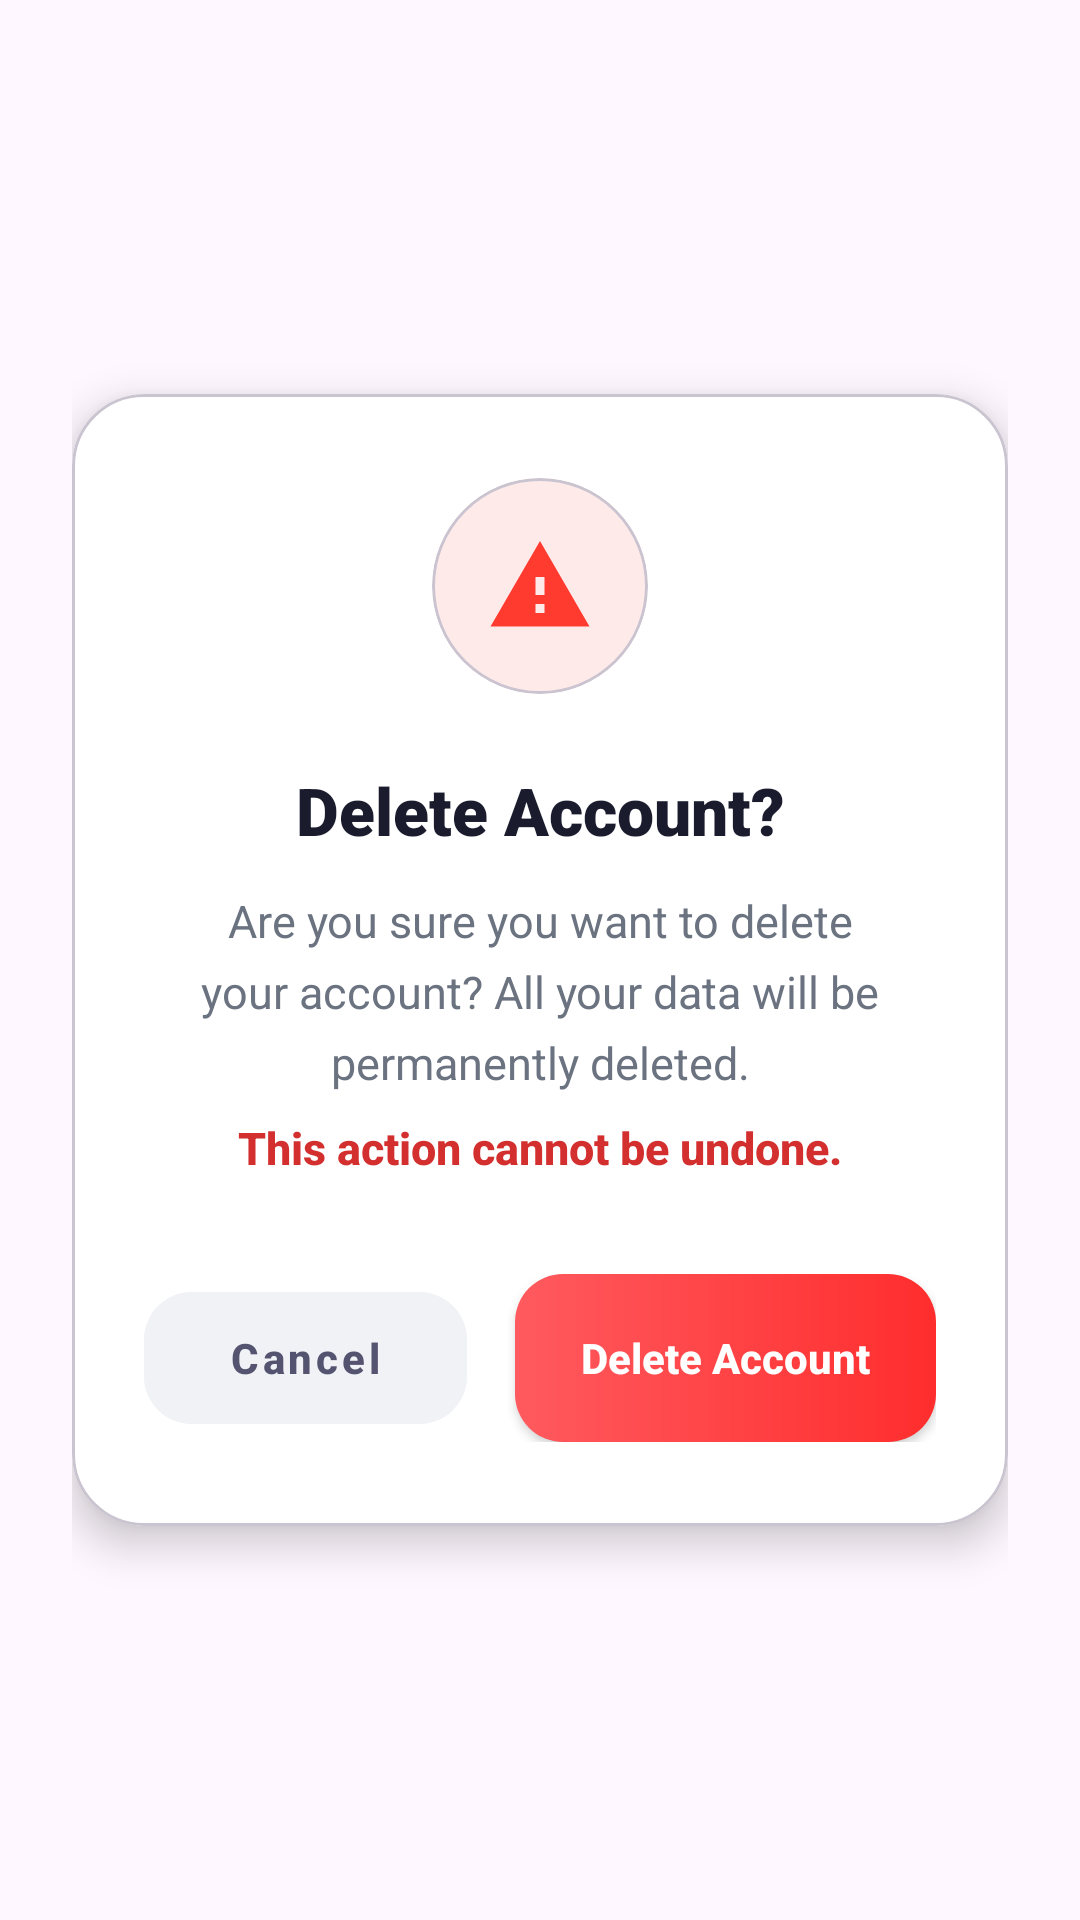

Screen size 1080×1920. Icon name, then its box in pixels as [left=x1, top=y1, right=x2, bottom=y2]:
warning triangle: [left=490, top=541, right=590, bottom=627]
